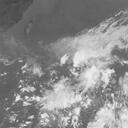cyclone: (44, 49, 103, 107)
